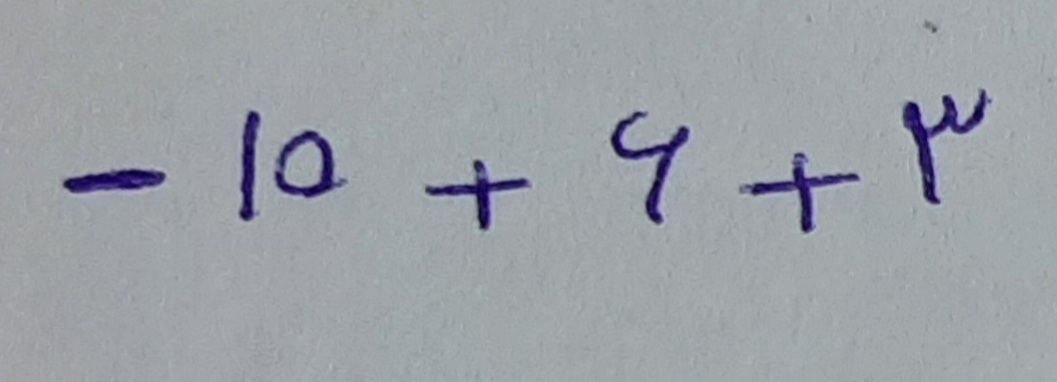character: (900, 90, 988, 206), (743, 151, 861, 233), (611, 110, 692, 227), (424, 160, 528, 233), (272, 129, 344, 198), (66, 167, 165, 195), (238, 112, 260, 222)
